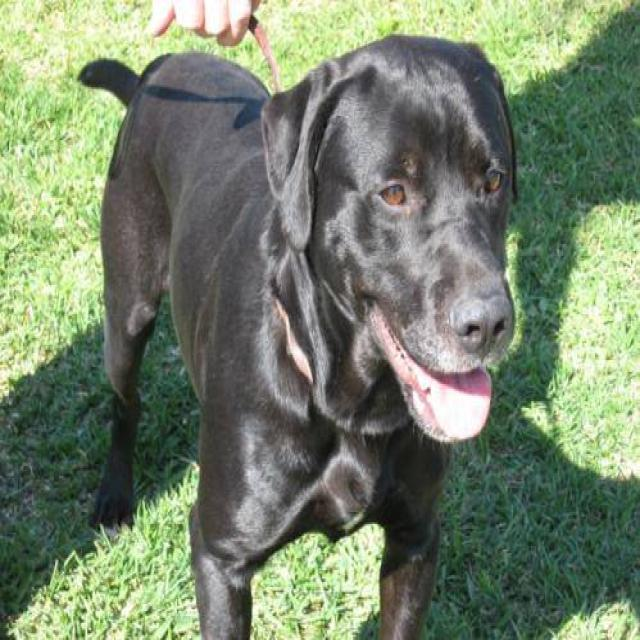dog: (76, 31, 518, 638)
